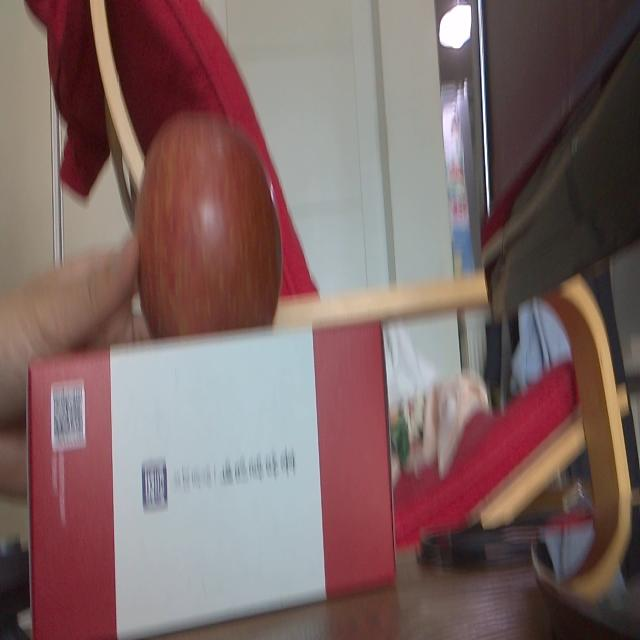apple: (134, 114, 282, 334)
